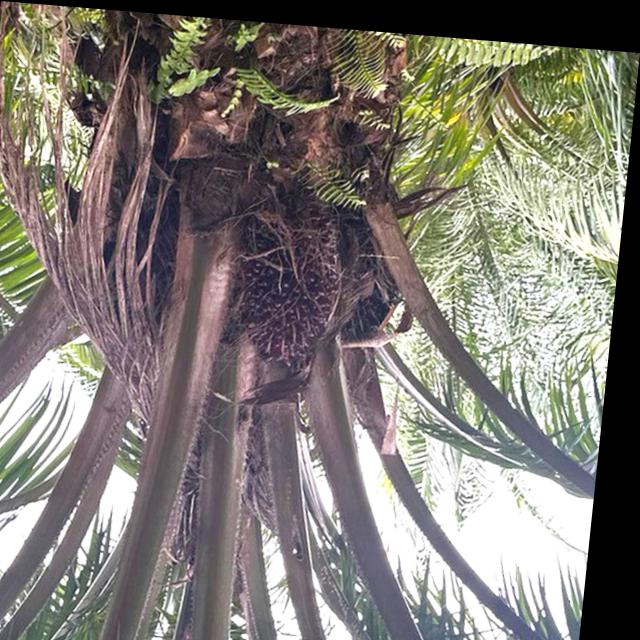ripe: (220, 192, 361, 371)
